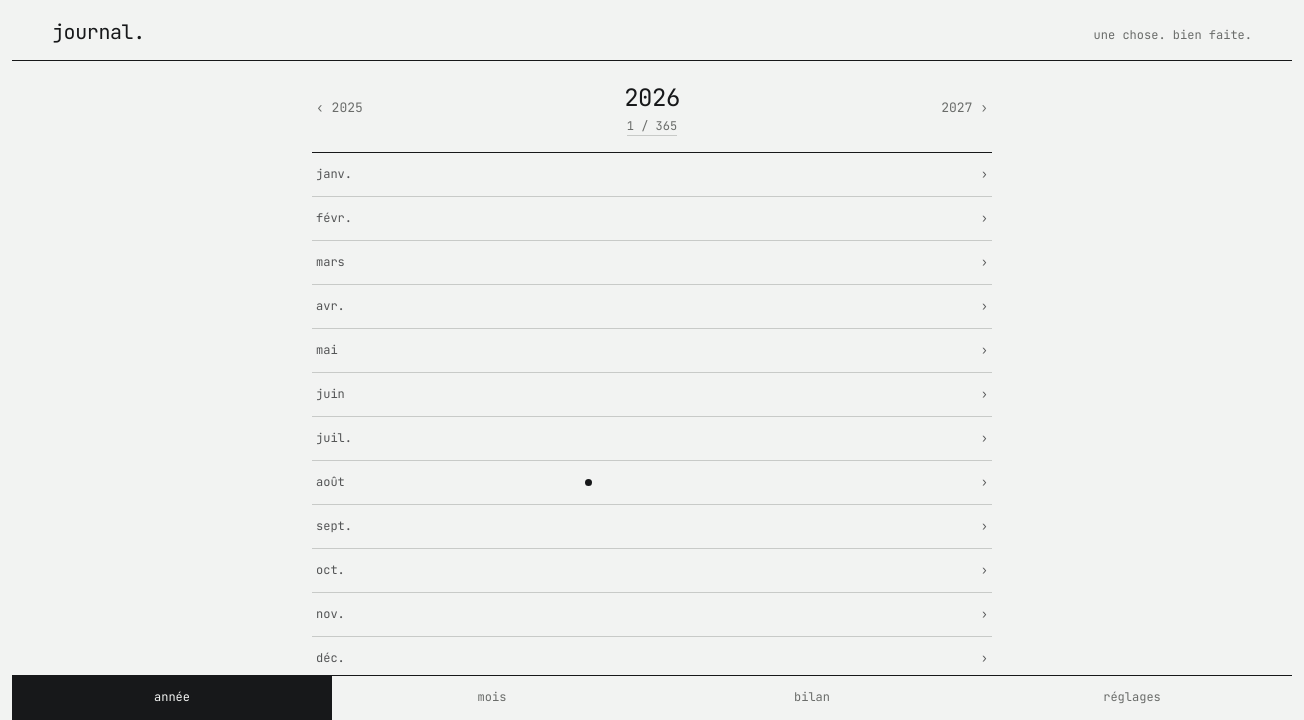
JournalApp › change d’année avec les flèches et revient avec T
Click the button named "année précédente".
click(339, 109)  # box top-left (312, 87), bottom-right (367, 131)
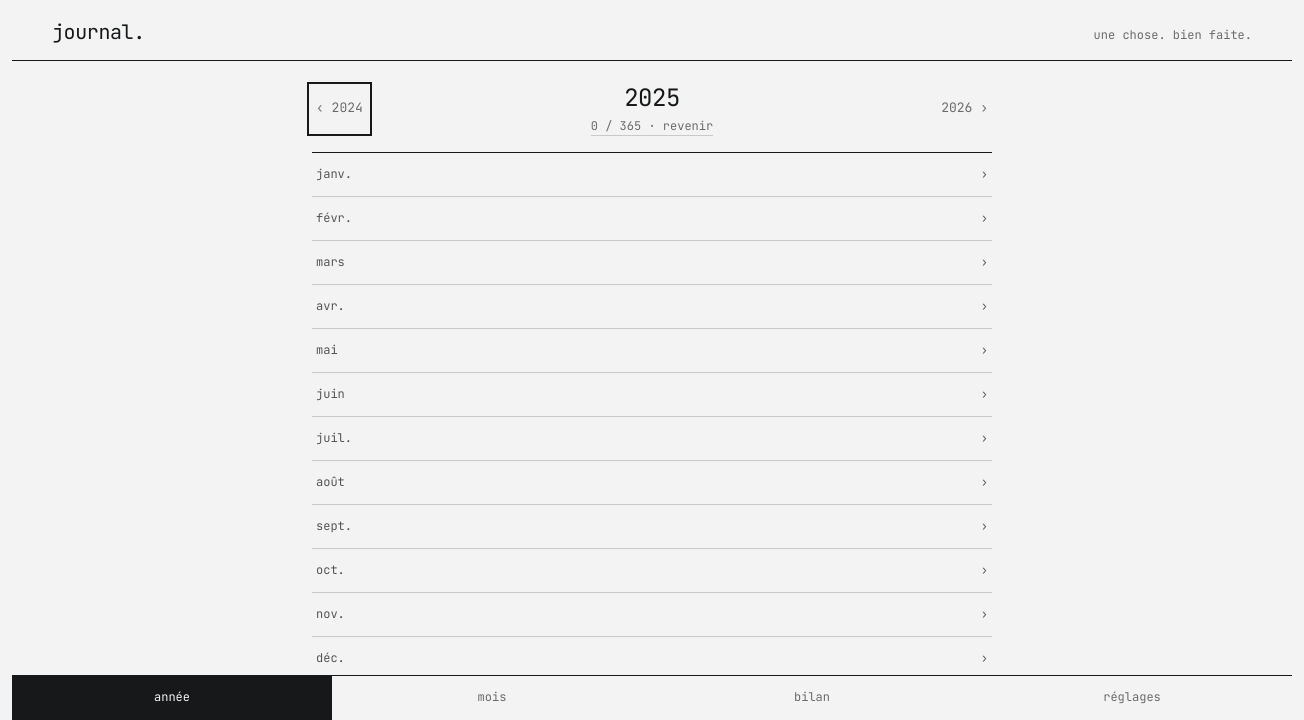
Expected: the text "2025" is shown, top-left (624, 81), bottom-right (680, 116)
Expected: the text "0 / 365 · revenir" is shown, top-left (591, 118), bottom-right (713, 136)
Press Arrowright
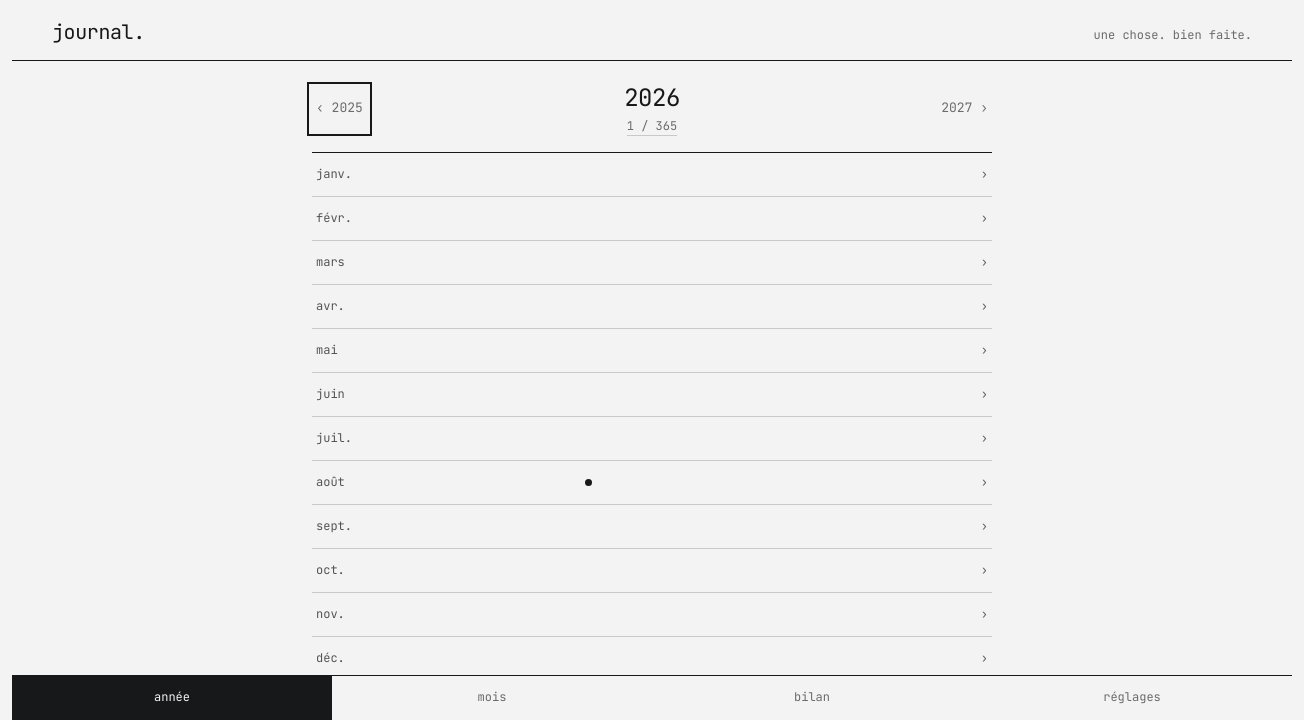
Expected: the text "2026" is shown, top-left (624, 81), bottom-right (680, 116)
Press Arrowleft
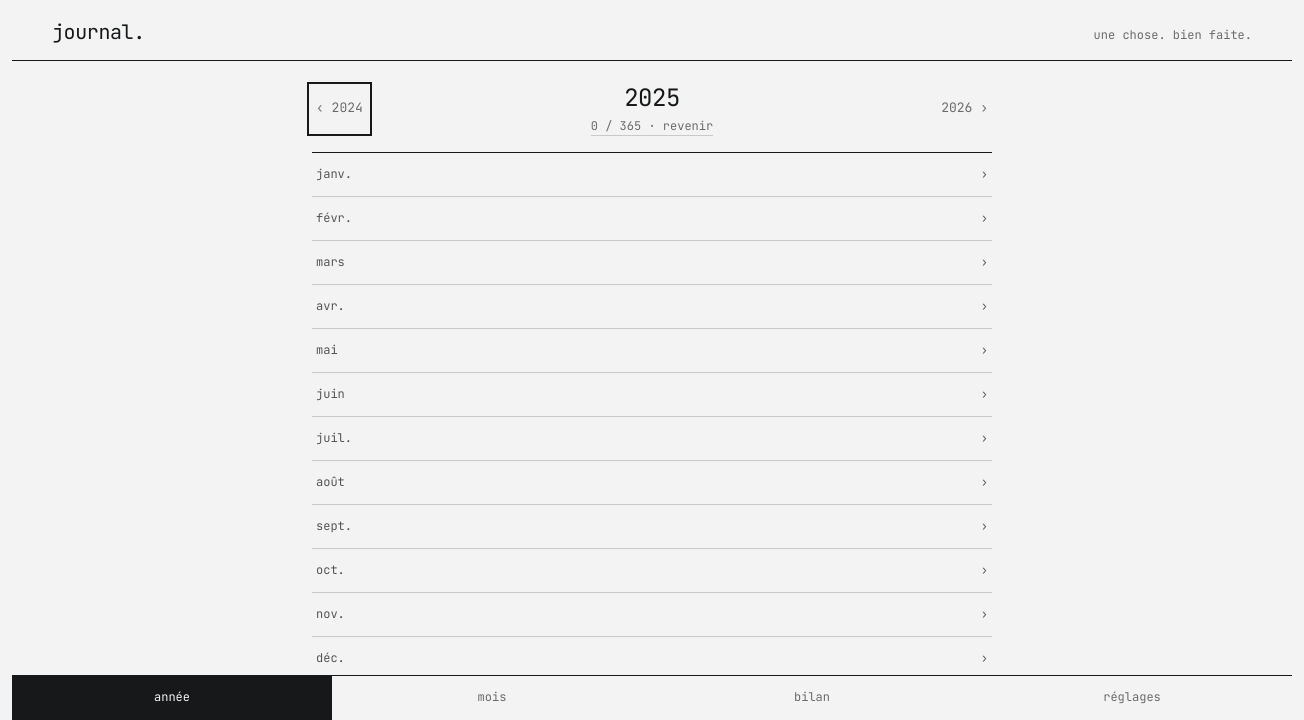
Type keys "t"
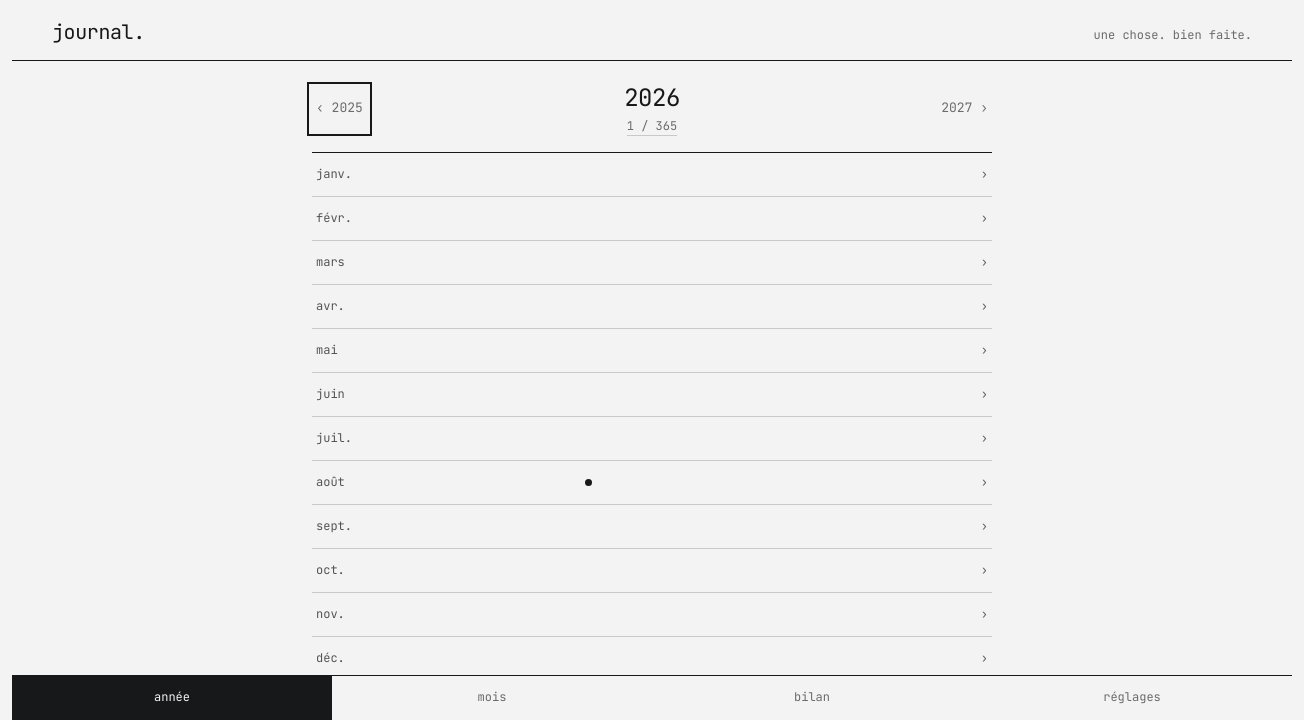
Expected: the text "2026" is shown, top-left (624, 81), bottom-right (680, 116)
